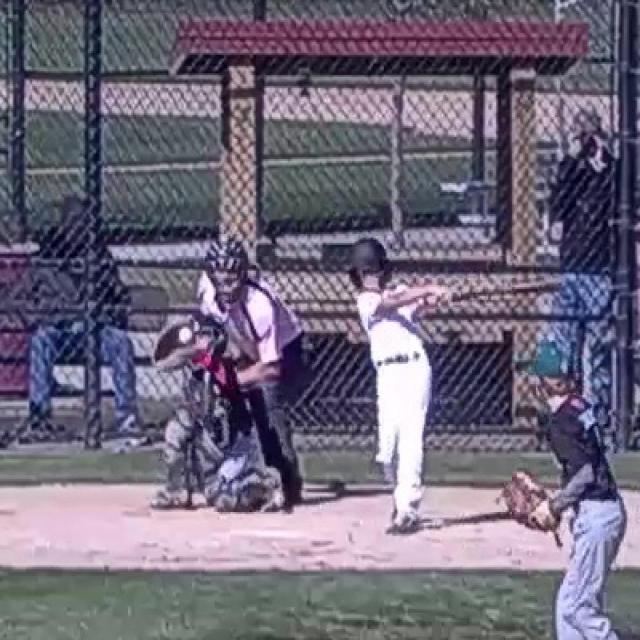baseball: (180, 328, 192, 343)
